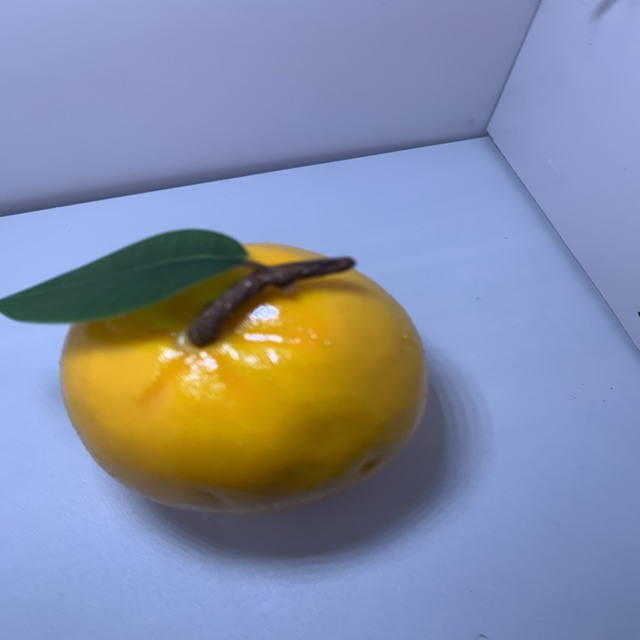Cam vang: (57, 226, 427, 518)
